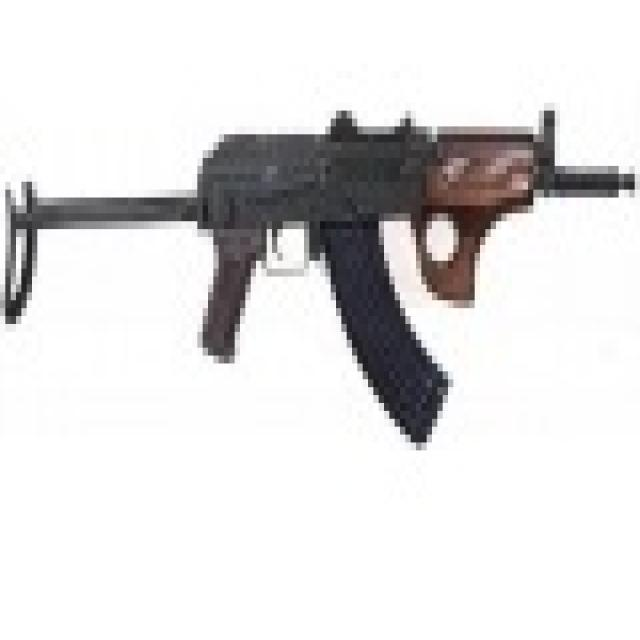Gun: (15, 109, 631, 434)
